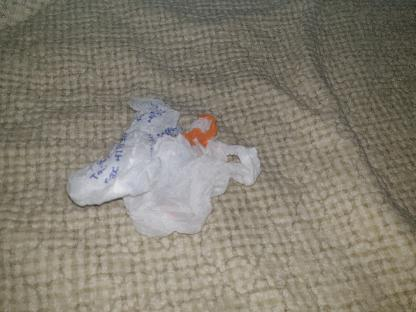Plastic Bag: (64, 92, 266, 248)
